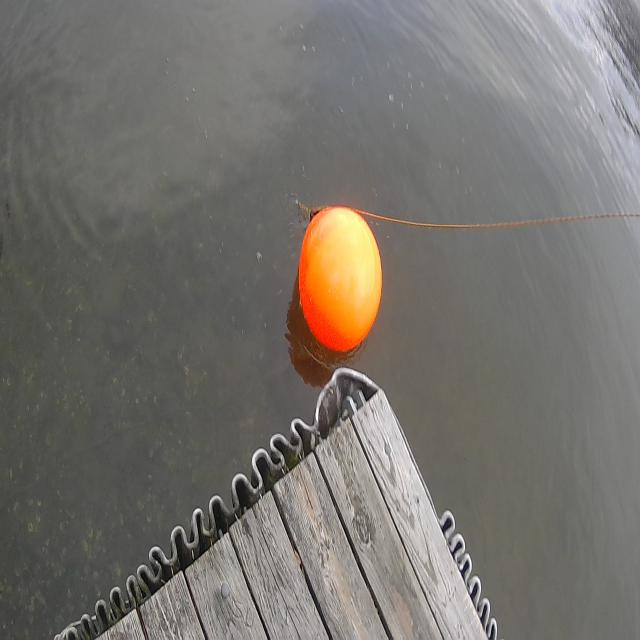Buoy: (292, 198, 384, 360)
